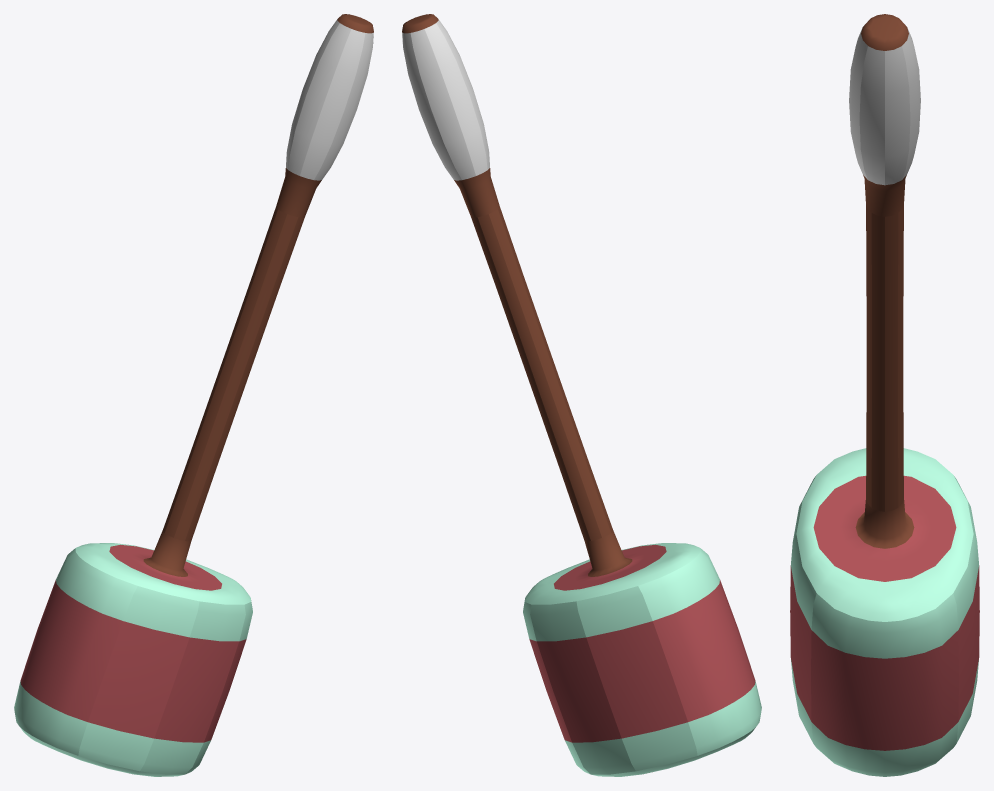
File: Hammar.fbx
3 renders of one model, left to right at view 1: azimuth 30°, elevation 25°; view 2: azimuth 150°, elevation 25°; view 3: azimuth 270°, elevation 25°, orthographic. The views are drawn at different scales.
Visible parts, largest first — view 1: Cylinder; view 2: Cylinder; view 3: Cylinder.
Part boxes in pixels (left/top/right/bottom): Cylinder: left=14, top=14, right=373, bottom=776; Cylinder: left=402, top=14, right=761, bottom=776; Cylinder: left=790, top=14, right=979, bottom=776.
Size of the model in its own units: 2.52 by 12.61 by 6.51.
